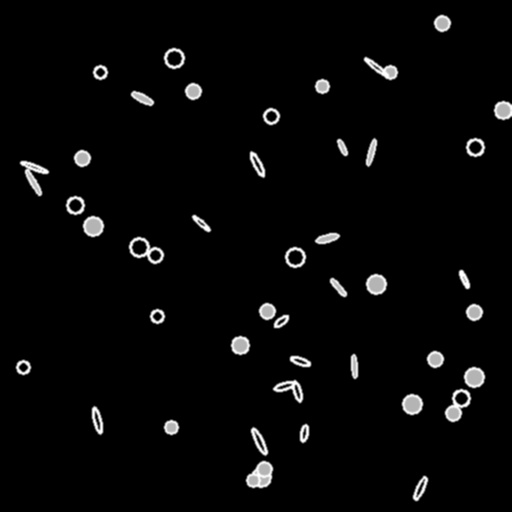pseudomonas: (364, 56, 388, 78), (24, 168, 42, 196), (250, 427, 268, 455), (248, 151, 266, 177), (20, 159, 48, 175), (412, 475, 428, 501), (329, 277, 347, 297), (191, 214, 211, 232), (131, 90, 153, 106), (365, 138, 377, 166), (91, 407, 103, 433), (289, 354, 311, 368), (272, 313, 290, 329), (315, 232, 339, 244), (291, 380, 303, 402), (273, 380, 295, 392), (458, 269, 470, 289), (336, 139, 348, 155), (299, 424, 309, 442), (351, 355, 357, 377)
synechocystis: (252, 468, 270, 486), (130, 238, 148, 256), (286, 248, 304, 266), (84, 217, 102, 235), (403, 395, 421, 413), (367, 275, 385, 293), (165, 49, 183, 67), (465, 368, 483, 386), (232, 337, 248, 353), (453, 390, 469, 406), (467, 139, 483, 155), (495, 102, 511, 118), (67, 197, 83, 213), (75, 151, 89, 165), (428, 352, 442, 366), (257, 462, 271, 476), (260, 304, 274, 318), (446, 406, 460, 420), (186, 84, 200, 98), (467, 305, 481, 319), (148, 248, 162, 262), (264, 109, 278, 123), (435, 16, 449, 30), (94, 66, 106, 78), (247, 474, 259, 486), (384, 66, 396, 78), (165, 421, 177, 433), (316, 80, 328, 92), (17, 361, 29, 373), (151, 310, 163, 322)
